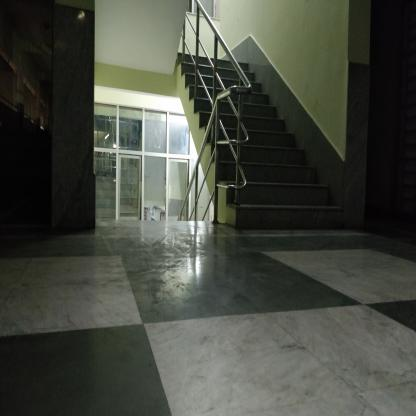stairs: (251, 123, 296, 230)
